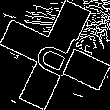P_SW: (28, 25, 82, 85)
